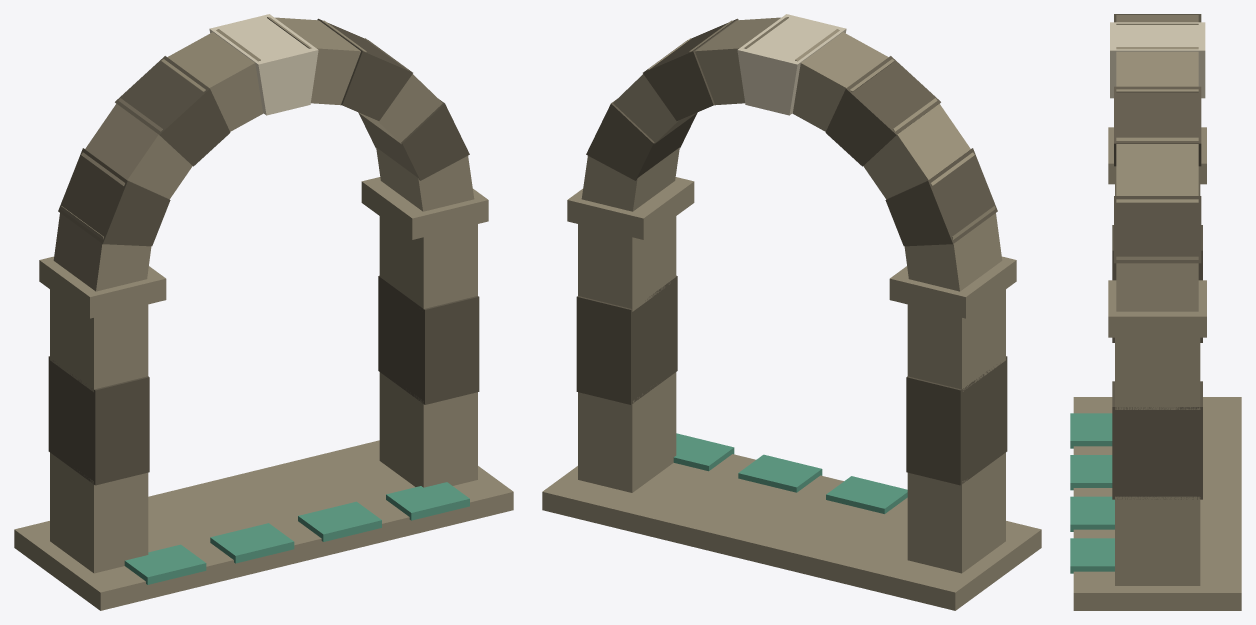
File: LairPortalArch.fbx
3 views of the same model, side by side, from view 1: azimuth 30°, elevation 25°; view 2: azimuth 150°, elevation 25°; view 3: azimuth 270°, elevation 25° (orthographic). The views are drawn at different scales.
Visible parts, largest first — view 1: LairPortalArch; view 2: LairPortalArch; view 3: LairPortalArch.
Part boxes in pixels (<box>): LairPortalArch: <box>14,14,513,610</box>; LairPortalArch: <box>542,14,1041,610</box>; LairPortalArch: <box>1070,14,1241,610</box>.
Bounding box in the file's own units: 282 × 320 × 104.
Materials: 4 (4 with a texture image).
